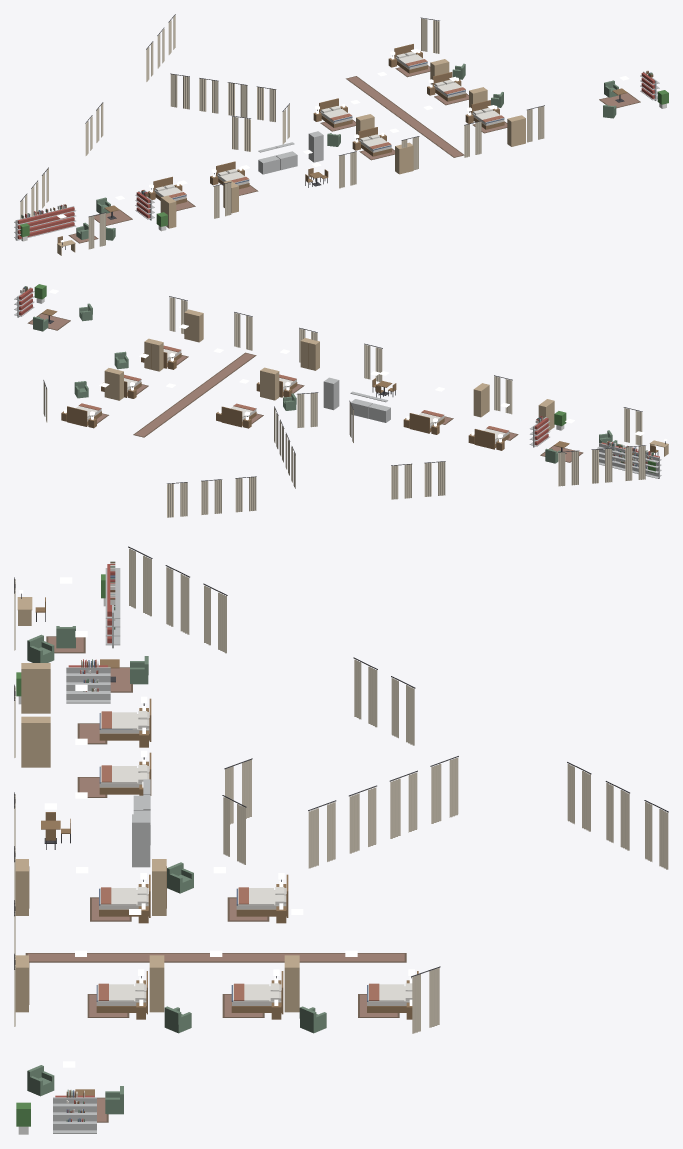
Rendered from fine-s2.glb.
3 views of the same model, one above another, from view 1: azimuth 30°, elevation 25°; view 2: azimuth 150°, elevation 25°; view 3: azimuth 270°, elevation 25° (orthographic). The views are drawn at different scales.
Parts seen in each view (by area): view 1: soft-s2, dresser.009, dresser.006, fridge#s2r4.000, bed-frame.005, bed-frame.008, dresser#s2r2.000, bed-frame.006, bed-frame.007, shelving#s2r0.000, kitchen-counter#s2r4.000, bed-frame.009 (+4 smaller); view 2: soft-s2, dresser.005, dresser.006, dresser.008, dresser.009, dresser.007, dresser#s2r3.000, fridge#s2r4.000, kitchen-counter#s2r4.000, bed-frame.005, bed-frame#s2r2.000, bed-frame#s2r3.000 (+5 smaller); view 3: soft-s2, shelving#s2r5.000, shelving#s2r1.000, dresser#s2r3.000, dresser#s2r2.000, fridge#s2r4.000, dresser.007, dresser.008, dresser.005, dresser.009.
Boxes of the visible parts, box(x1,y1,x2,y2) form: soft-s2: box(20, 14, 653, 249); dresser.009: box(507, 115, 525, 146); dresser.006: box(395, 142, 413, 174); fridge#s2r4.000: box(308, 131, 323, 162); bed-frame.005: box(319, 98, 352, 127); bed-frame.008: box(432, 72, 466, 101); dresser#s2r2.000: box(160, 195, 176, 228); bed-frame.006: box(358, 127, 391, 156); bed-frame.007: box(394, 44, 427, 73); shelving#s2r0.000: box(14, 215, 39, 240); kitchen-counter#s2r4.000: box(258, 146, 279, 174); bed-frame.009: box(471, 100, 504, 129); soft-s2: box(20, 286, 653, 517); dresser.005: box(260, 367, 279, 400); dresser.006: box(300, 338, 319, 370); dresser.008: box(144, 338, 163, 371); dresser.009: box(184, 309, 203, 342); dresser.007: box(104, 368, 123, 400); dresser#s2r3.000: box(473, 383, 489, 417); fridge#s2r4.000: box(323, 377, 339, 410); kitchen-counter#s2r4.000: box(368, 396, 390, 422); bed-frame.005: box(221, 406, 256, 427); bed-frame#s2r2.000: box(474, 429, 509, 449); bed-frame#s2r3.000: box(409, 413, 444, 433); soft-s2: box(14, 546, 668, 1122); shelving#s2r5.000: box(53, 1095, 96, 1133); shelving#s2r1.000: box(66, 665, 110, 703); dresser#s2r3.000: box(21, 716, 50, 767); dresser#s2r2.000: box(21, 663, 50, 713); fridge#s2r4.000: box(132, 814, 150, 867); dresser.007: box(284, 955, 299, 1012); dresser.008: box(149, 955, 164, 1012); dresser.005: box(152, 859, 166, 915); dresser.009: box(15, 955, 29, 1012).
Size of the model in its own units: 51.8 by 2.66 by 26.64.
